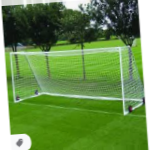goals: (9, 46, 144, 115)
